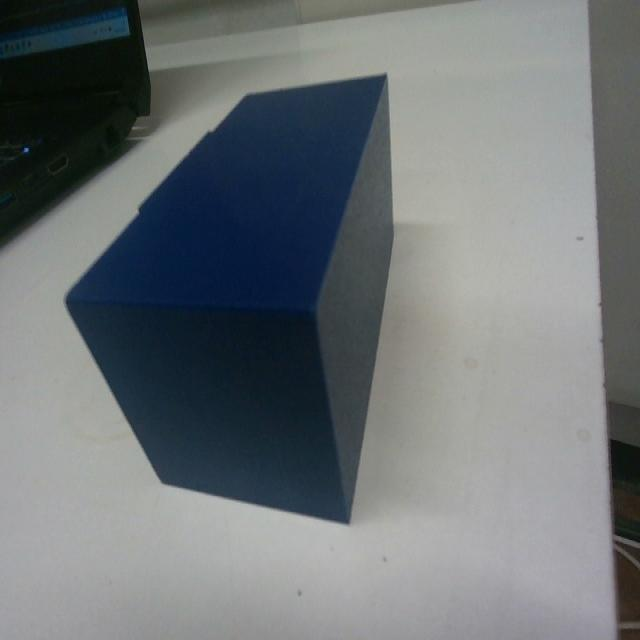Blue Cuboid: (64, 68, 396, 525)
